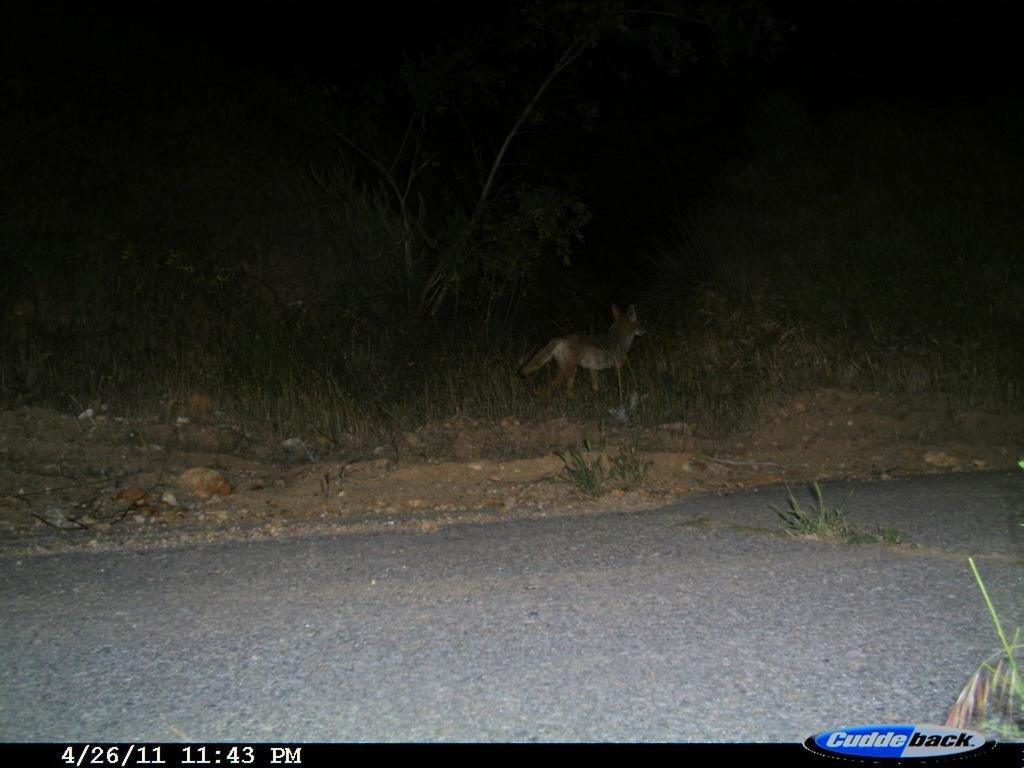coyote: (518, 299, 658, 405)
